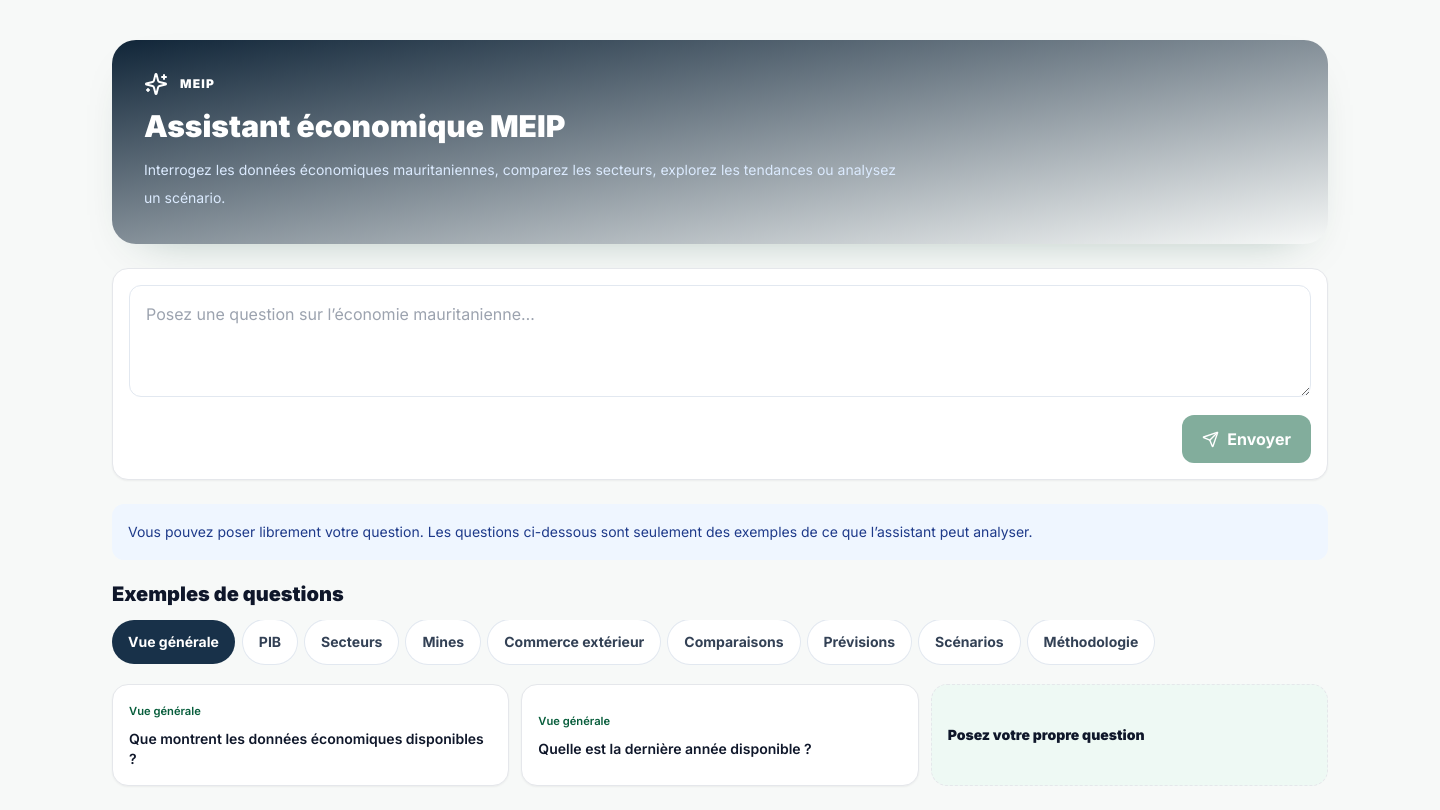
Test: treats examples as optional suggestions and accepts free text
Type "Une question entièrement libre" into the text box named "Votre question".
click(720, 341); type("Une question entièrement libre")  # box x1=129 y1=285 x2=1311 y2=397
Then press Enter
(page scrolled)
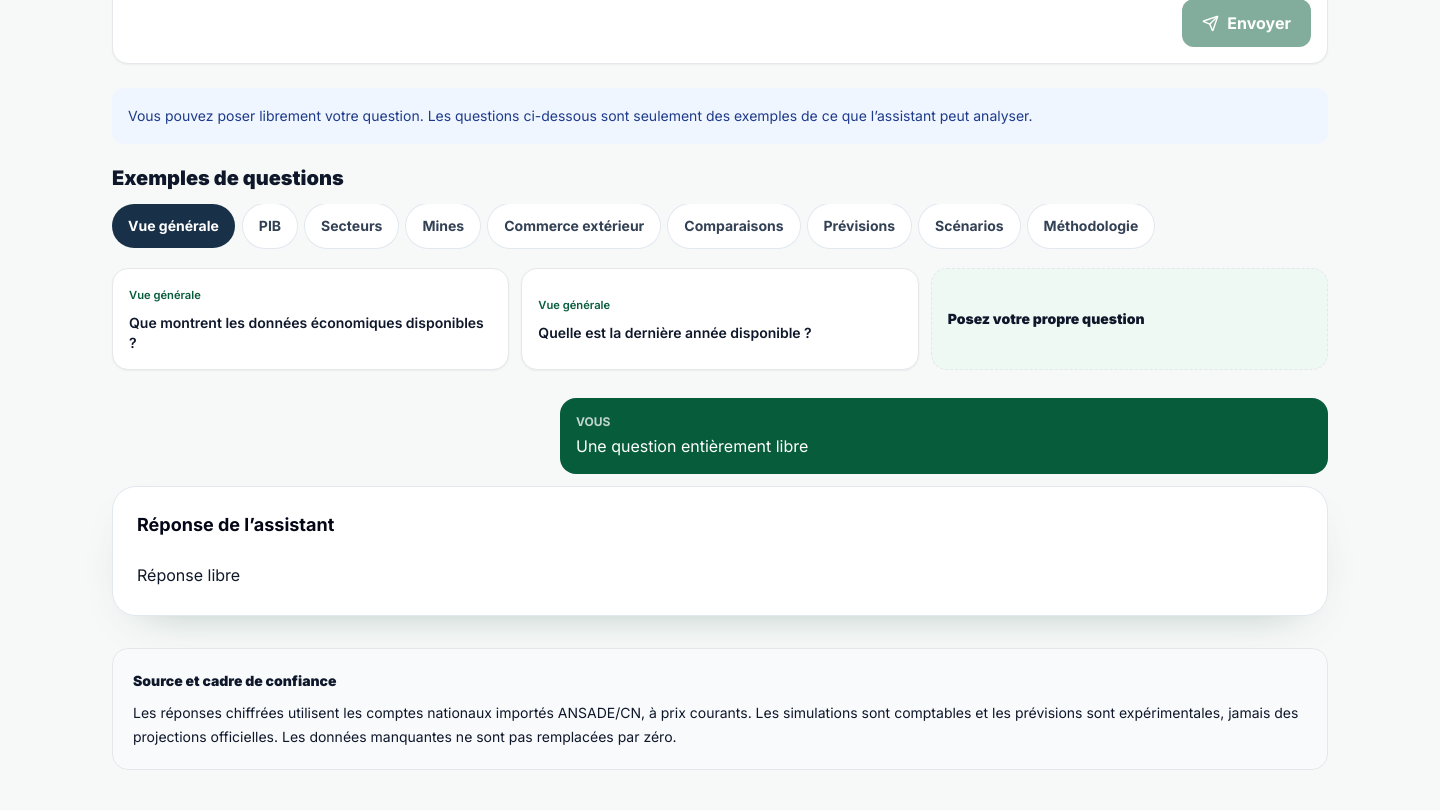
Now the text "Réponse libre" is shown, box x1=137 y1=565 x2=240 y2=585
